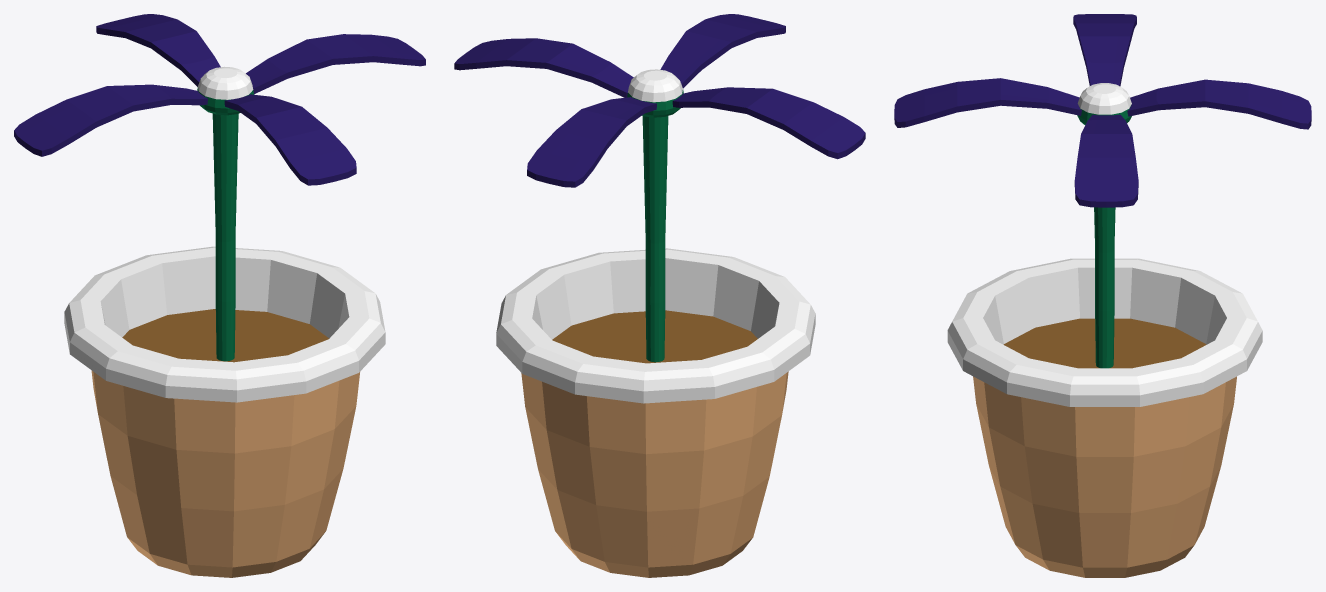
Rendered from Tree Pot_15.fbx.
3 renders of one model, left to right at view 1: azimuth 30°, elevation 25°; view 2: azimuth 150°, elevation 25°; view 3: azimuth 270°, elevation 25°, orthographic. The views are drawn at different scales.
Parts seen in each view (by area): view 1: Tree Pot_15; view 2: Tree Pot_15; view 3: Tree Pot_15.
Part boxes in pixels (x1,y1,x2,y2): Tree Pot_15: (14,14,425,577); Tree Pot_15: (454,14,865,577); Tree Pot_15: (894,14,1311,577).
Size of the model in its own units: 0.2435 by 0.2835 by 0.2323.
